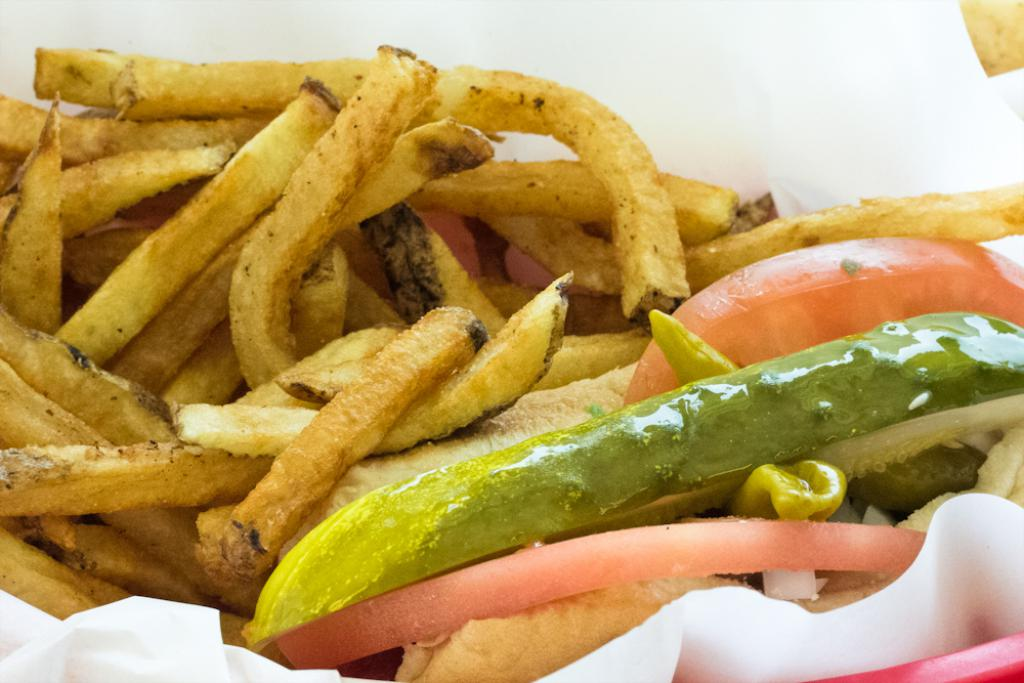French fries: (74, 72, 994, 664)
